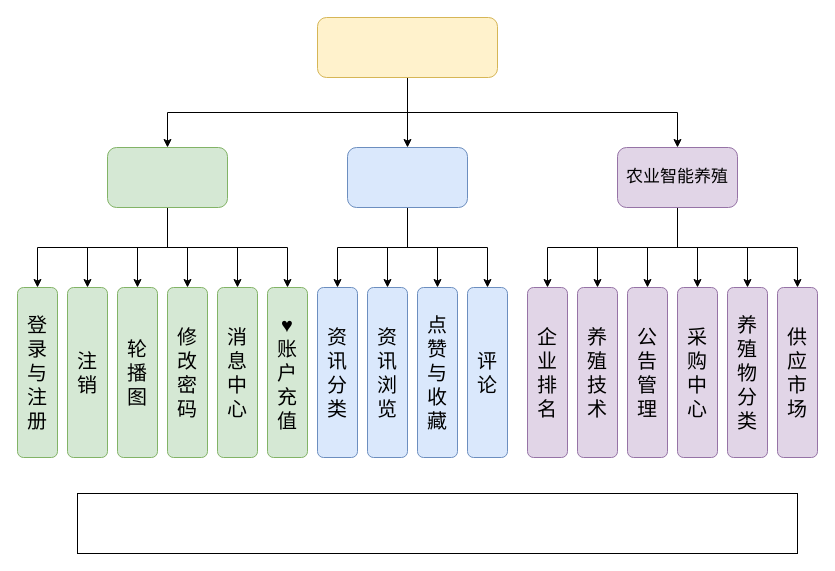
The diagram is 835 pixels wide and 571 high, and some of its shapes have lost their labels. The centre of each missing label's shape, as x and y in pixels:
※账户充值对接了支付宝的沙箱支付（支付宝测试环境）: the point at 437,523
农业新闻资讯: the point at 407,177
基础功能: the point at 167,177
网站系统: the point at 407,47
